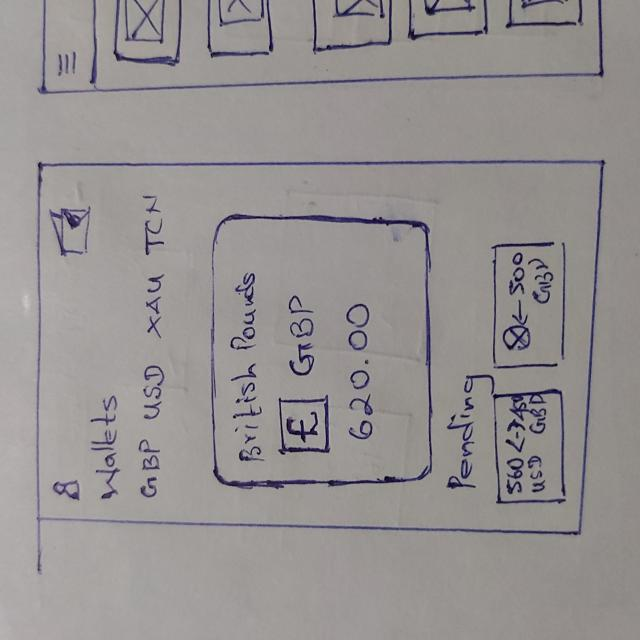CardView: (204, 210, 437, 487)
Icon: (278, 395, 331, 457), (44, 207, 95, 264), (49, 477, 86, 501)
Image: (502, 323, 533, 354)
Layout: (486, 237, 570, 370), (494, 389, 570, 505)
MainLayout: (30, 154, 610, 539)
TextView: (231, 273, 263, 465), (446, 372, 487, 494), (342, 301, 376, 441), (504, 403, 553, 499), (93, 391, 122, 506), (507, 248, 558, 305), (287, 295, 318, 380), (140, 192, 168, 258), (136, 436, 163, 504), (142, 272, 167, 339), (140, 365, 166, 421)
